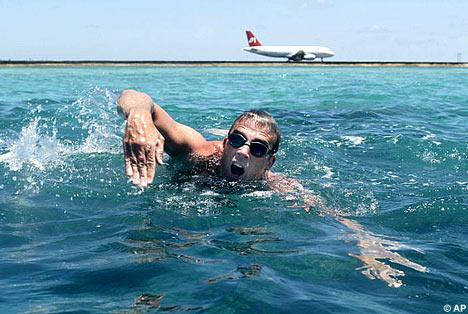human: (112, 86, 407, 284)
